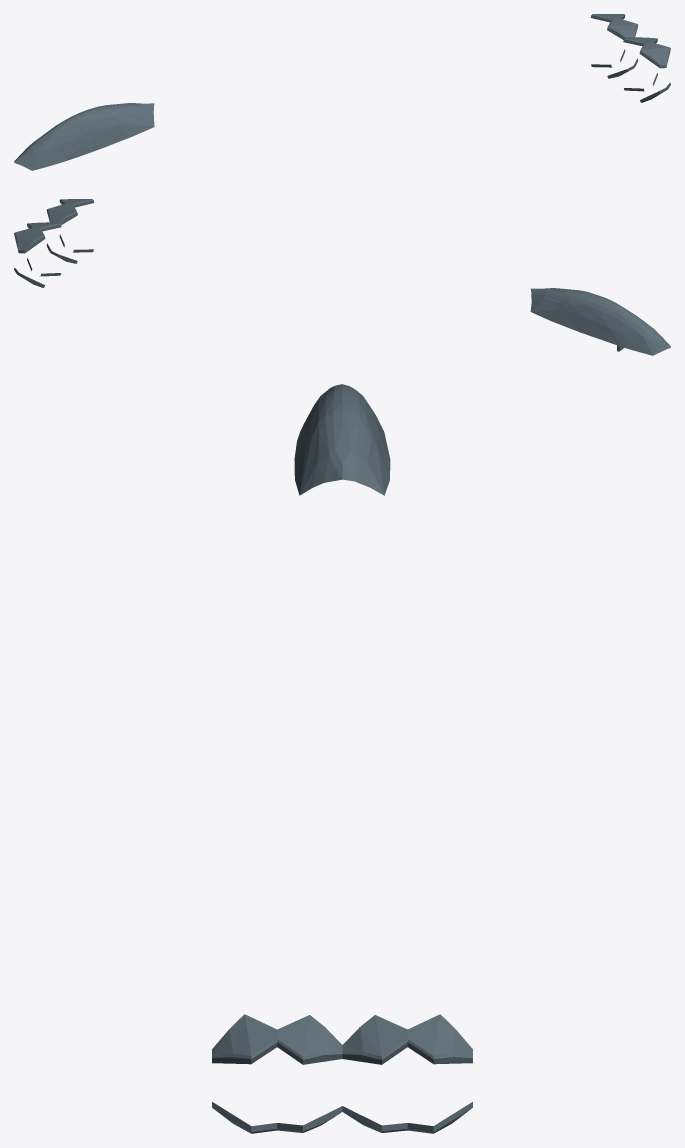
The model's file is f22.glass.glb.
3 views of the same model, one above another, from view 1: azimuth 30°, elevation 25°; view 2: azimuth 150°, elevation 25°; view 3: azimuth 270°, elevation 25° (orthographic). The views are drawn at different scales.
Parts seen in each view (by area): view 1: glass; view 2: glass; view 3: glass.
Part boxes in pixels (<box>): glass: <box>14,14,670,170</box>; glass: <box>14,199,670,355</box>; glass: <box>212,384,472,1133</box>.
Bounding box in the file's own units: 13.19 × 2.05 × 2.35.
